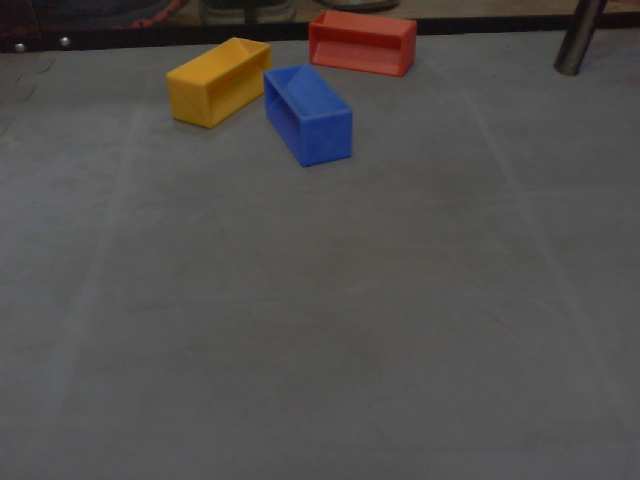BlueSample: (262, 63, 355, 167)
RedSample: (305, 8, 418, 80)
YellowSample: (163, 36, 269, 130)
